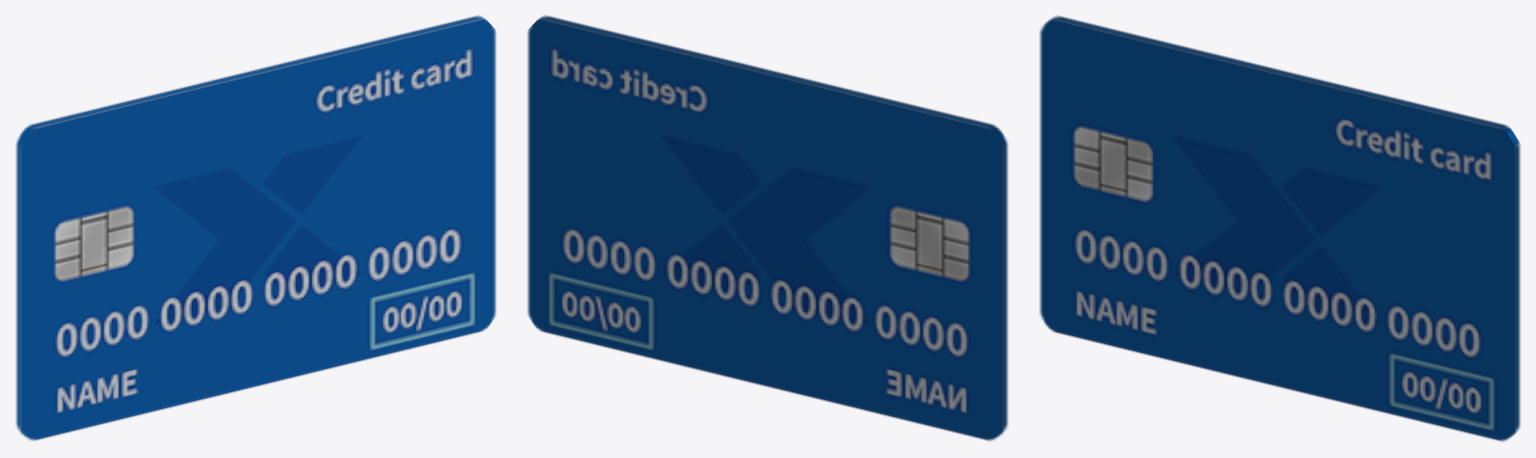
File: Credit C.glb
3 views of the same model, side by side, from view 1: azimuth 30°, elevation 25°; view 2: azimuth 150°, elevation 25°; view 3: azimuth 330°, elevation 25° (orthographic).
Visible parts, largest first — view 1: credit-card-expiry; view 2: credit-card-expiry; view 3: credit-card-expiry.
Boxes of the visible parts, bbox=[...] form: credit-card-expiry: bbox=[15, 15, 496, 441]; credit-card-expiry: bbox=[527, 15, 1008, 441]; credit-card-expiry: bbox=[1039, 15, 1520, 441].
Bounding box in the file's own units: 22.52 × 14.19 × 0.3883.
1 material, 1 textured.
